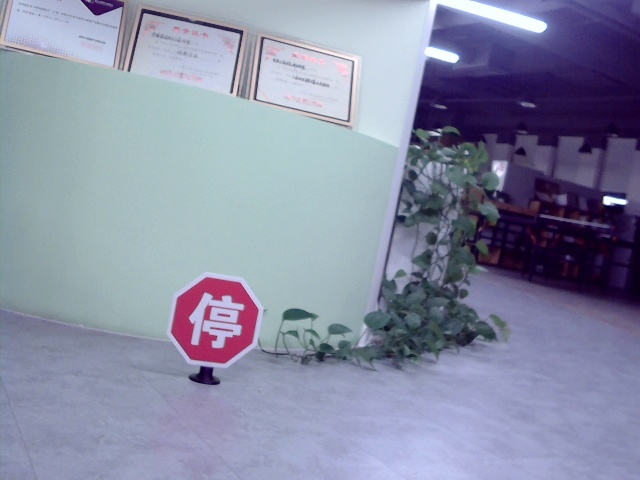stop: (190, 294, 243, 347)
